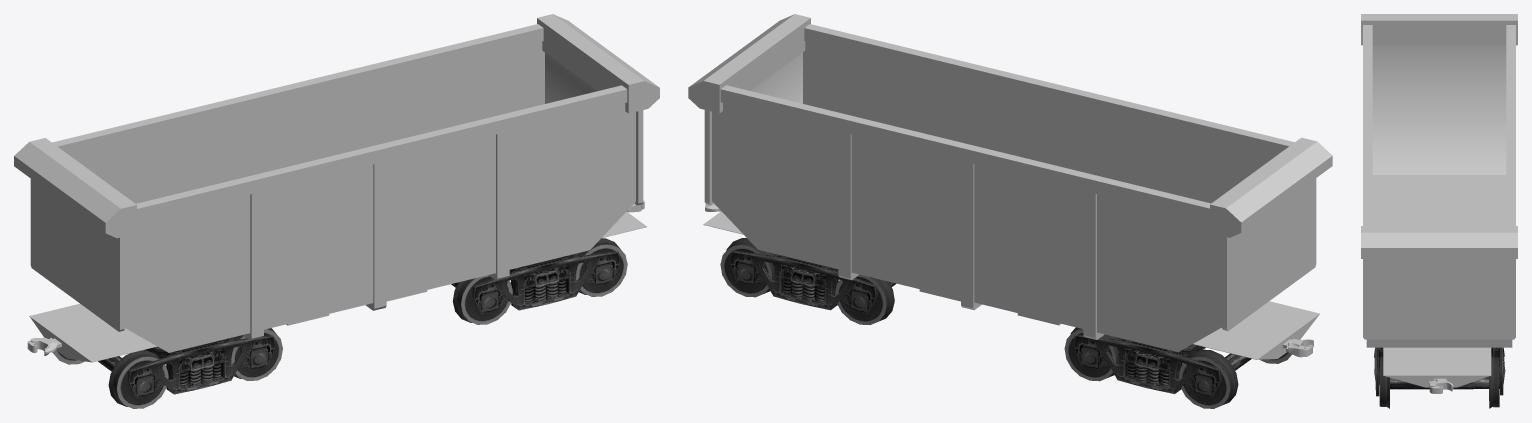
File: TrainsContainer08.FBX
3 views of the same model, side by side, from view 1: azimuth 30°, elevation 25°; view 2: azimuth 150°, elevation 25°; view 3: azimuth 270°, elevation 25° (orthographic). The views are drawn at different scales.
Parts seen in each view (by area): view 1: TrainsContainer08, TrainsContainer01Wheels, TrainsContainer01Detail; view 2: TrainsContainer08, TrainsContainer01Wheels, TrainsContainer01Detail; view 3: TrainsContainer08, TrainsContainer01Detail, TrainsContainer01Wheels.
Part boxes in pixels (x1,y1,x2,y2): TrainsContainer08: [14, 14, 659, 352]; TrainsContainer01Wheels: [52, 238, 627, 408]; TrainsContainer01Detail: [27, 200, 646, 362]; TrainsContainer08: [688, 14, 1332, 351]; TrainsContainer01Wheels: [720, 238, 1291, 408]; TrainsContainer01Detail: [703, 203, 1319, 359]; TrainsContainer08: [1361, 14, 1517, 347]; TrainsContainer01Detail: [1383, 347, 1491, 393]; TrainsContainer01Wheels: [1374, 347, 1505, 408].
Size of the model in its own units: 16660 by 5713 by 4351.
